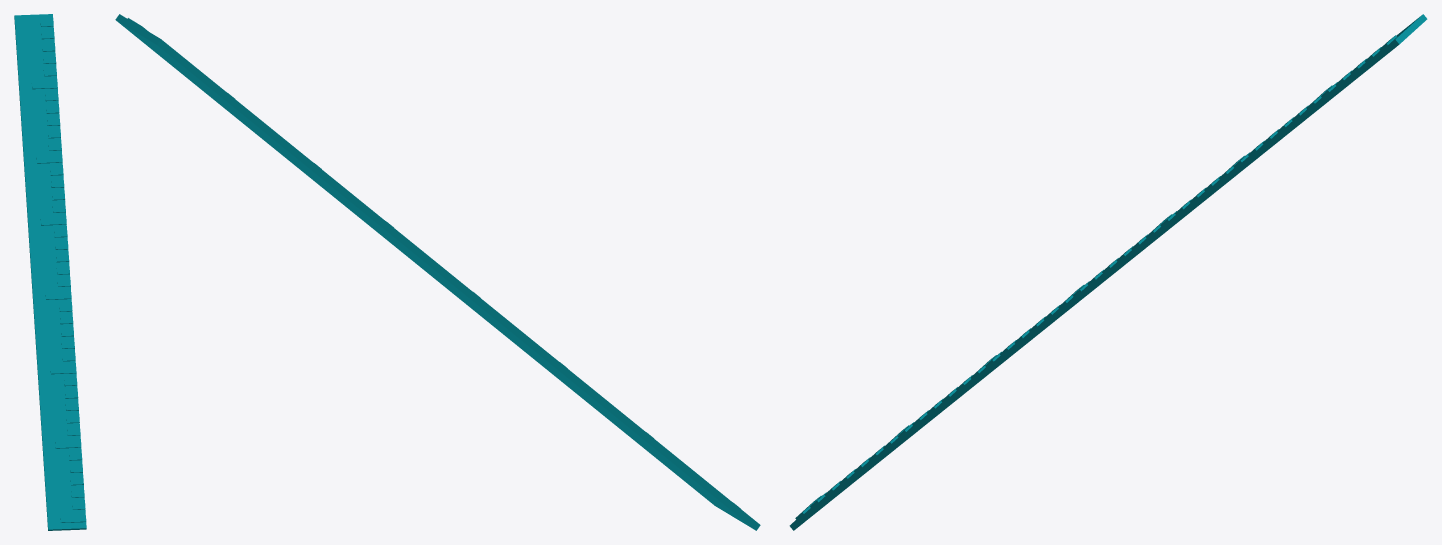
The model's file is brush4.FBX.
The picture shows the model from 3 angles, left to right: view 1: azimuth 30°, elevation 25°; view 2: azimuth 150°, elevation 25°; view 3: azimuth 270°, elevation 25°; orthographic projection. The views are drawn at different scales.
Parts seen in each view (by area): view 1: Box001; view 2: Box001; view 3: Box001.
Part boxes in pixels (x1,y1,x2,y2): Box001: [14, 14, 86, 530]; Box001: [115, 14, 760, 530]; Box001: [789, 14, 1427, 530].
Bounding box in the file's own units: 3.31 × 6.13 × 6.47.
